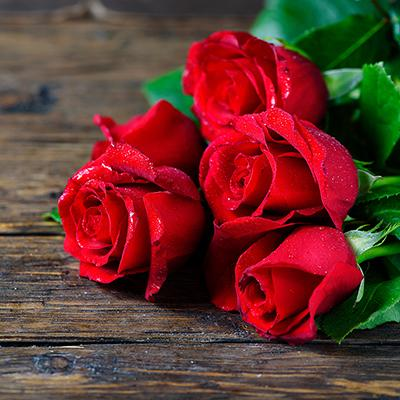rose: (59, 142, 201, 300), (198, 114, 362, 230), (201, 229, 367, 343), (181, 29, 329, 139)
